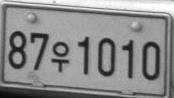0: (96, 36, 116, 77), (141, 40, 161, 81)
1: (74, 35, 96, 75), (119, 38, 138, 79)
7: (28, 31, 50, 70)
8: (6, 30, 27, 70)
우: (50, 40, 70, 73)
